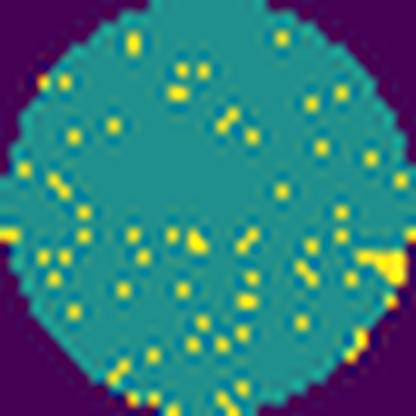Edge-Loc: (355, 249, 413, 290)
